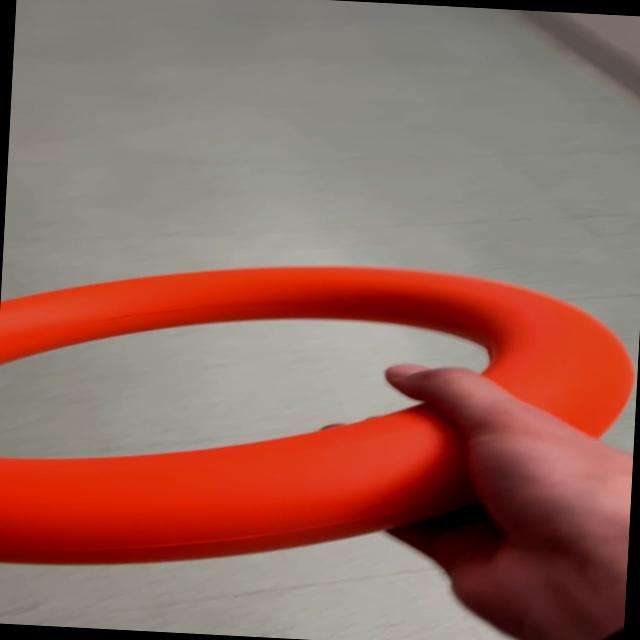note: (0, 245, 638, 595)
